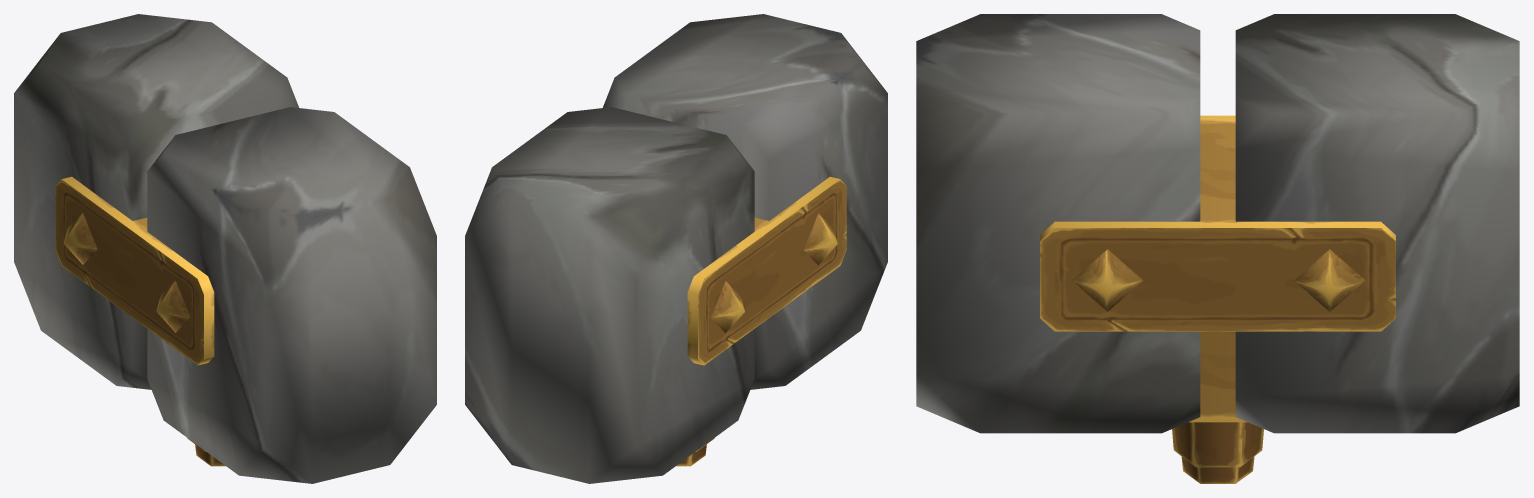
File: SM_WEP_head_hammer_battle_17.fbx
3 views of the same model, side by side, from view 1: azimuth 30°, elevation 25°; view 2: azimuth 150°, elevation 25°; view 3: azimuth 270°, elevation 25° (orthographic). The views are drawn at different scales.
Parts seen in each view (by area): view 1: SM_WEP_head_hammer_battle_17; view 2: SM_WEP_head_hammer_battle_17; view 3: SM_WEP_head_hammer_battle_17.
Boxes of the visible parts, x1,y1,x2,y2 form: SM_WEP_head_hammer_battle_17: (14,14,436,483); SM_WEP_head_hammer_battle_17: (465,14,887,483); SM_WEP_head_hammer_battle_17: (916,14,1519,483).
Bounding box in the file's own units: 32.54 × 45.81 × 61.53.
